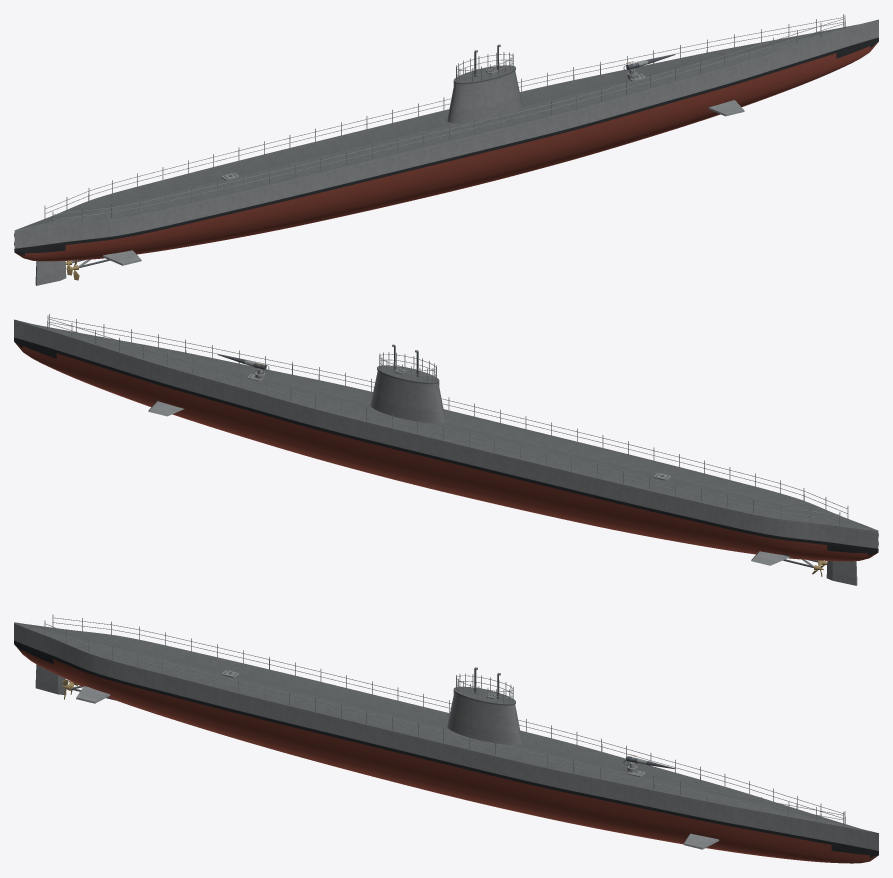
Rendered from bars_1915.glb.
3 renders of one model, top to bottom at view 1: azimuth 30°, elevation 25°; view 2: azimuth 150°, elevation 25°; view 3: azimuth 330°, elevation 25°, orthographic.
Parts seen in each view (by area): view 1: Bars class submarine; view 2: Bars class submarine; view 3: Bars class submarine.
Boxes of the visible parts, x1,y1,x2,y2 form: Bars class submarine: (14, 14, 878, 285); Bars class submarine: (14, 314, 878, 585); Bars class submarine: (14, 614, 878, 863).
Size of the model in its own units: 68 by 9.87 by 6.38.
6 materials, 2 textured.
